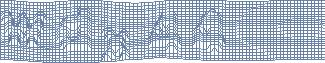4: (191, 8, 227, 55), (146, 11, 182, 56)
d: (56, 7, 93, 51)
w: (1, 9, 48, 49)
x: (99, 26, 132, 62)
